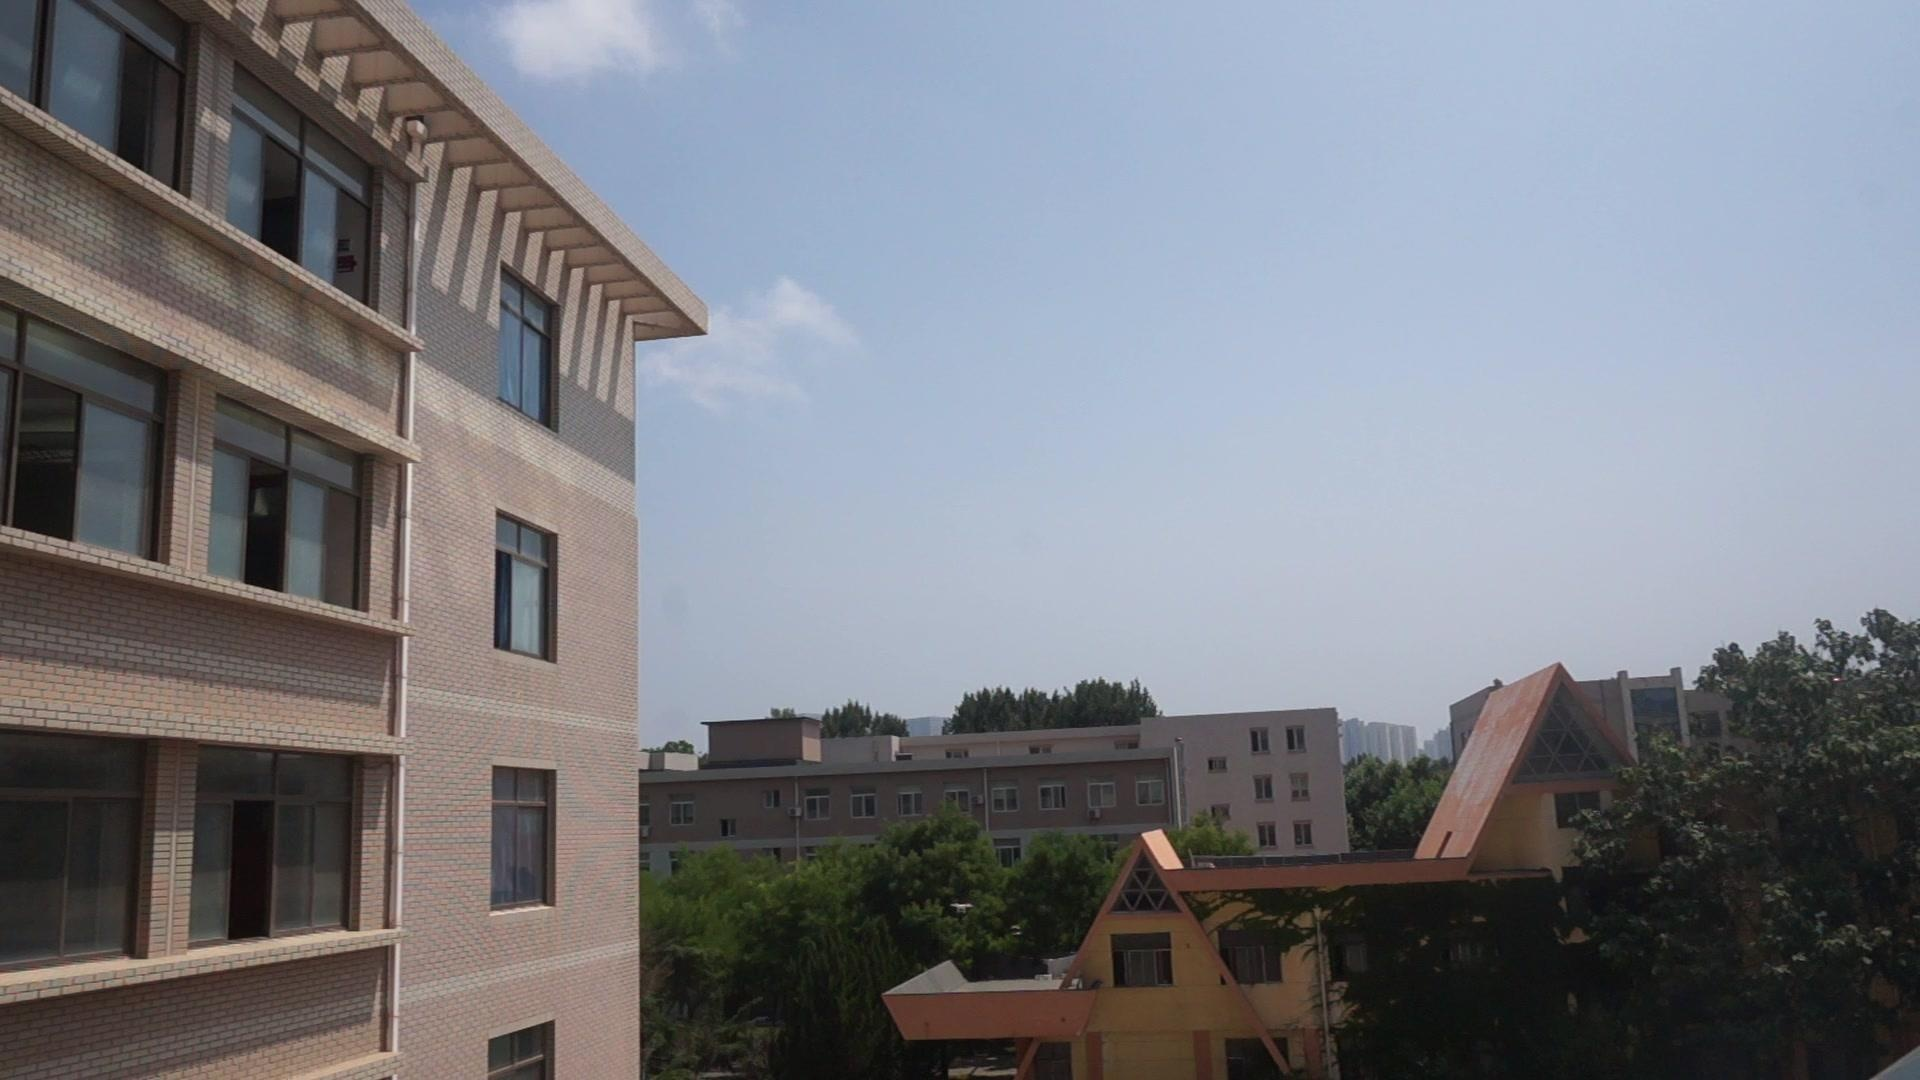UAV: (951, 905, 975, 915)
